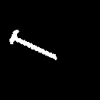half_double_crochet: (10, 30, 56, 59)
